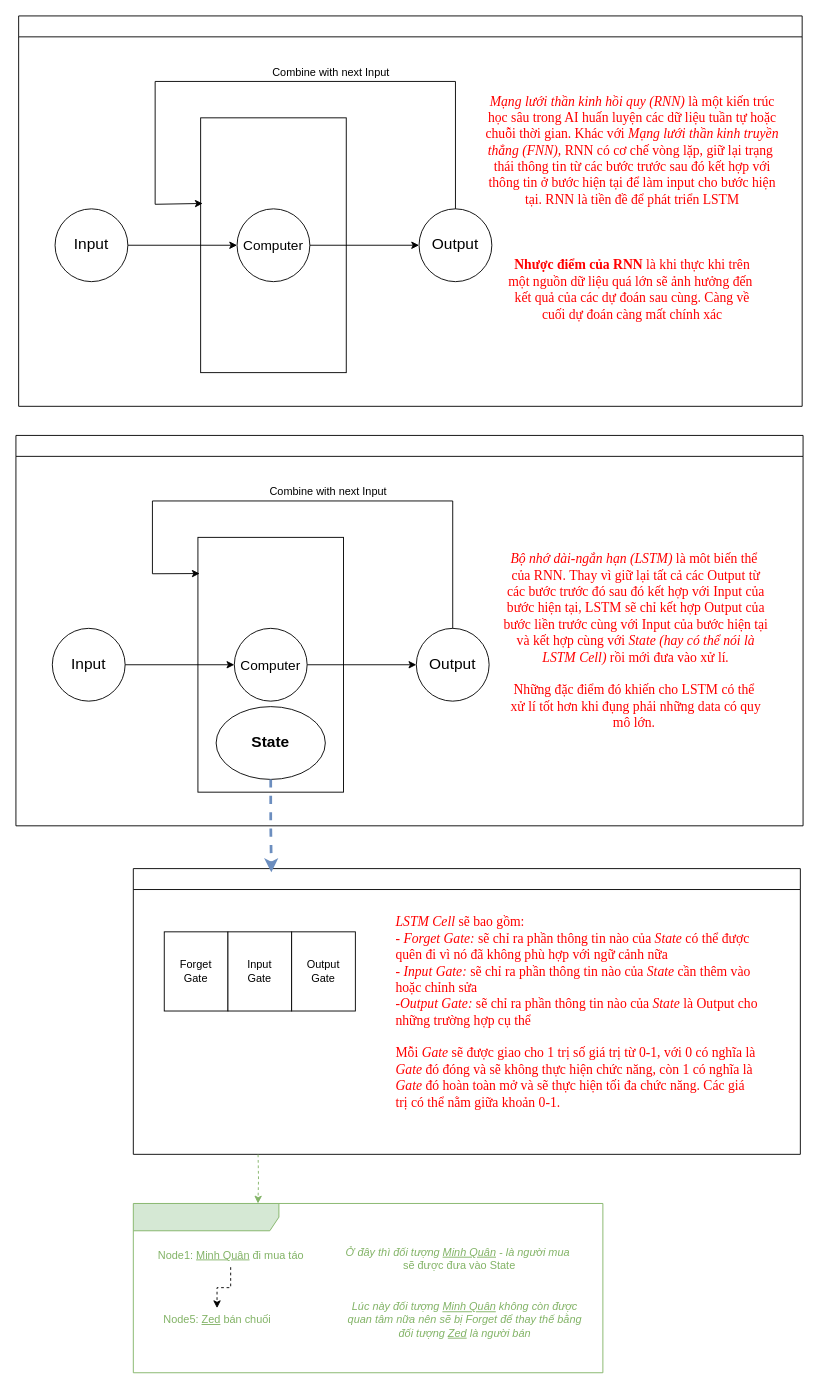
Some shapes in this 819 by 1389 pixel diagram are drawn without their labels. The shapes that lost their labels are listed below. From the top down, each one's box as (x1, y1, x2, y2) in pixels, then its label:
(18, 15, 802, 406): RNN (Recurrent Neural Network) - Mạng lưới thần kinh hồi quy
(15, 435, 803, 826): LSTM (Long Short-Term Memory) - Bộ nhớ dài-ngắn hạn
(132, 868, 800, 1154): LSTM Cell (State)
(132, 1203, 603, 1373): Example
